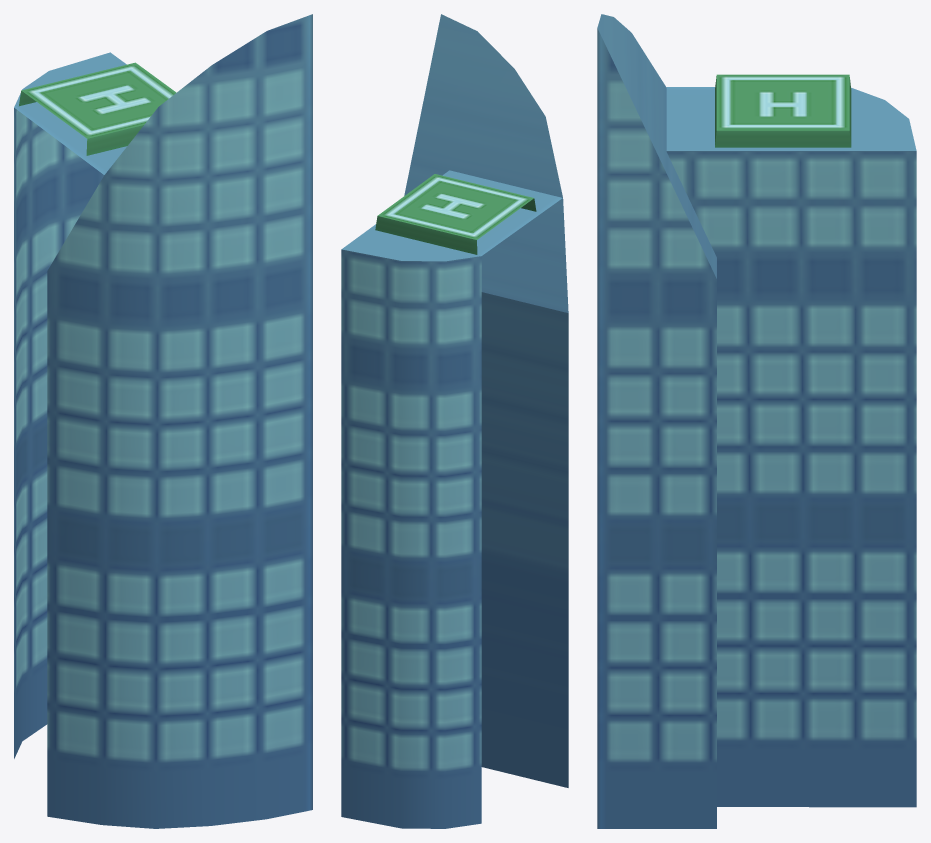
File: MarineCity_Building_A_02.fbx
The picture shows the model from 3 angles, left to right: view 1: azimuth 30°, elevation 25°; view 2: azimuth 150°, elevation 25°; view 3: azimuth 270°, elevation 25°; orthographic projection. The views are drawn at different scales.
Visible parts, largest first — view 1: MarineCity_Building_A_02; view 2: MarineCity_Building_A_02; view 3: MarineCity_Building_A_02.
Part boxes in pixels (left/top/right/bottom): MarineCity_Building_A_02: left=14, top=14, right=312, bottom=828; MarineCity_Building_A_02: left=341, top=14, right=568, bottom=828; MarineCity_Building_A_02: left=597, top=14, right=916, bottom=828.
Bounding box in the file's own units: 3000 × 11076 × 4000.
